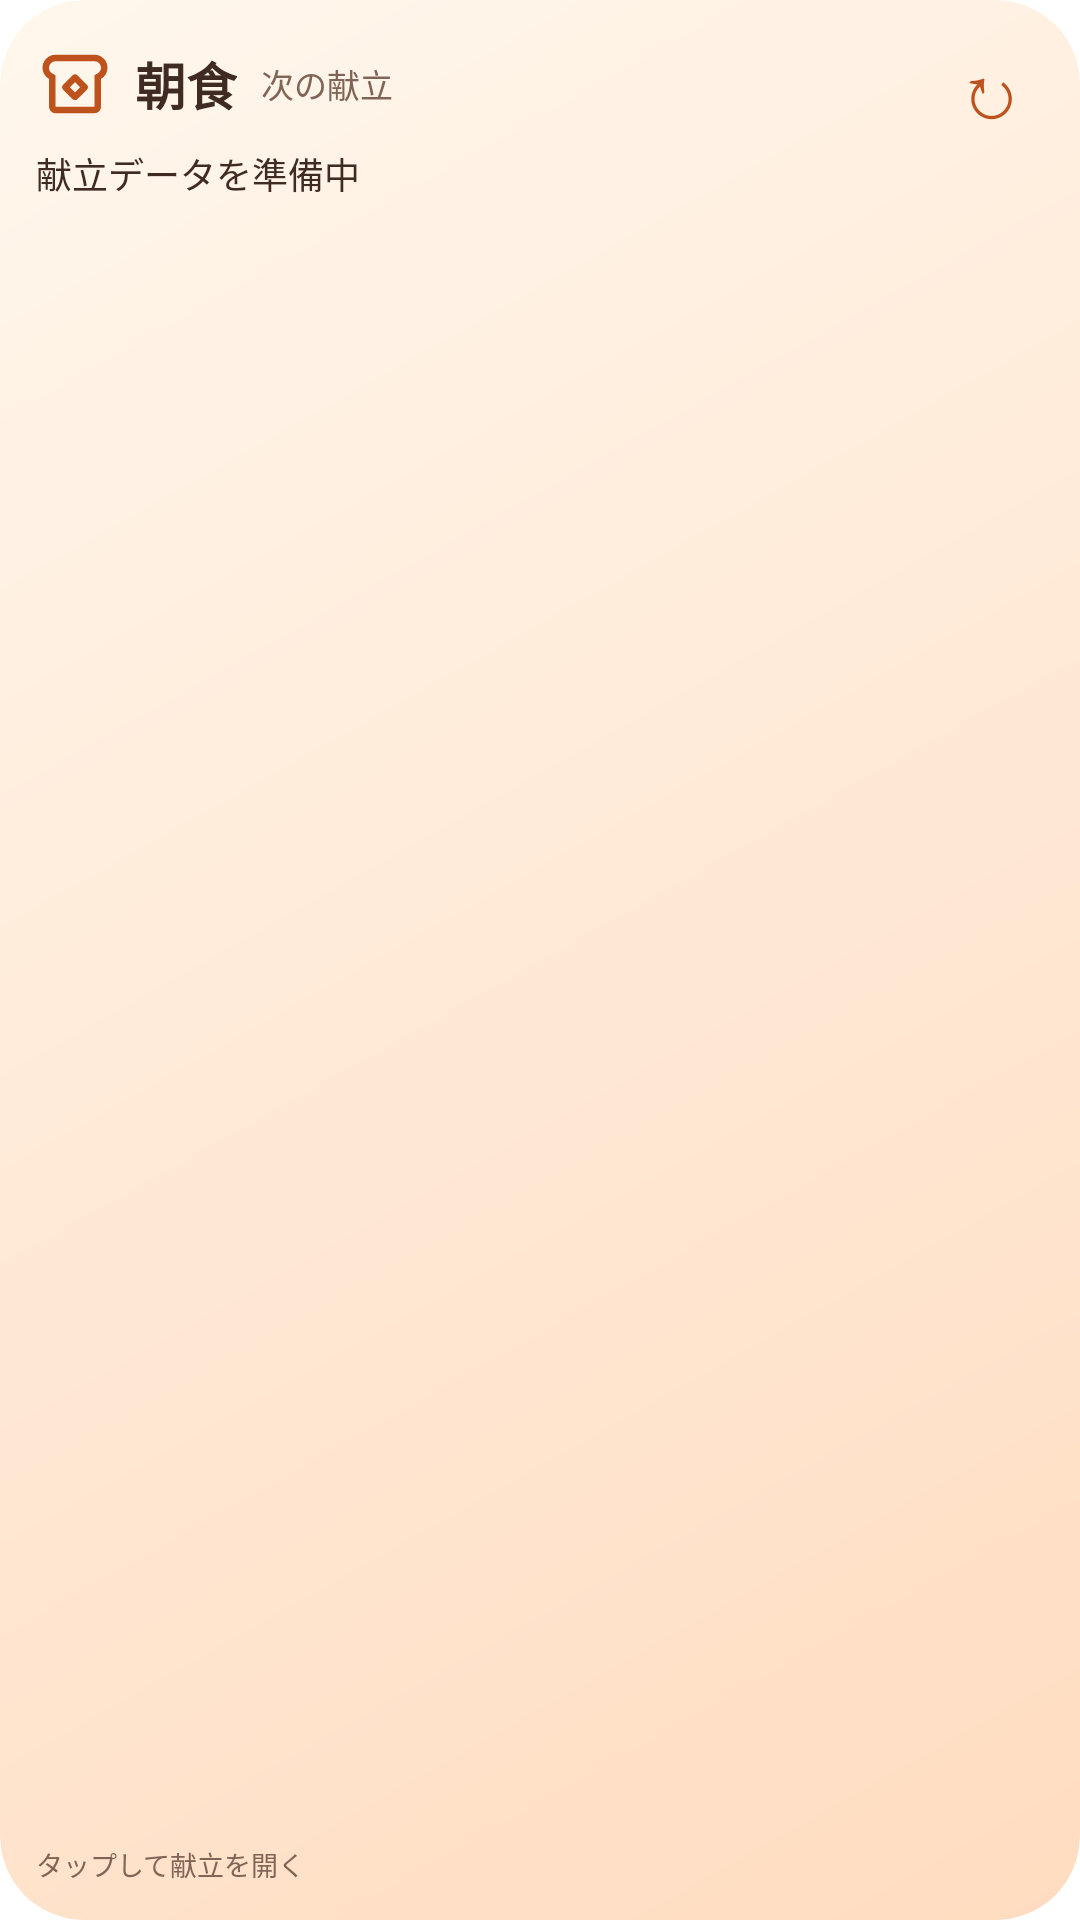

Where icons sit on this 1080 × 1920 app screen, as region(x1, y1, x2, y2):
notification symbol breakfast dining: region(42, 54, 108, 114)
